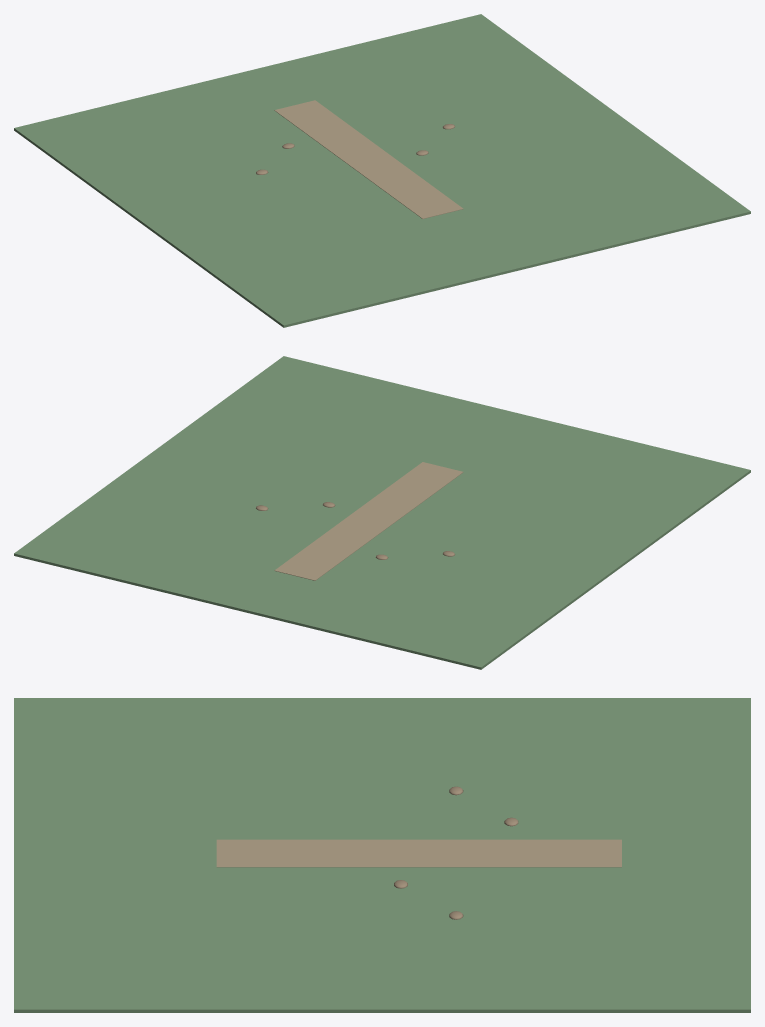
The model's file is arena_floor.glb.
3 renders of one model, top to bottom at view 1: azimuth 30°, elevation 25°; view 2: azimuth 150°, elevation 25°; view 3: azimuth 270°, elevation 25°, orthographic. The views are drawn at different scales.
Visible parts, largest first — view 1: Ground, StonePath; view 2: Ground, StonePath; view 3: Ground, StonePath.
Boxes of the visible parts, x1,y1,x2,y2 form: Ground: (14,14,750,327); StonePath: (274,100,463,218); Ground: (14,356,750,669); StonePath: (274,462,463,580); Ground: (14,698,750,1012); StonePath: (216,839,621,867).
Bounding box in the file's own units: 40 × 0.38 × 40.
